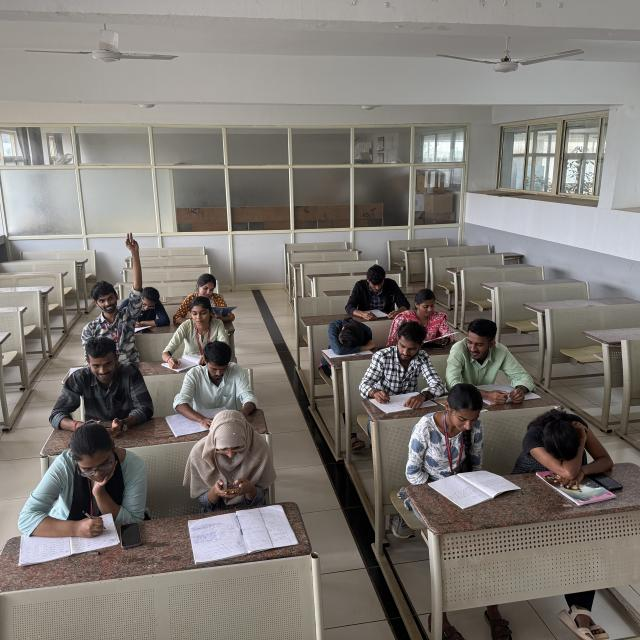Hand Rising: (80, 232, 144, 347)
Reading: (418, 381, 511, 492), (173, 342, 266, 427), (448, 315, 538, 394), (398, 290, 458, 351), (173, 269, 240, 323), (346, 264, 409, 321)
Sleeping: (518, 404, 617, 480), (321, 314, 375, 354)
Using Phone: (49, 335, 150, 436), (180, 410, 276, 510)
Writing: (18, 421, 146, 543), (360, 322, 438, 412), (158, 296, 229, 370)
